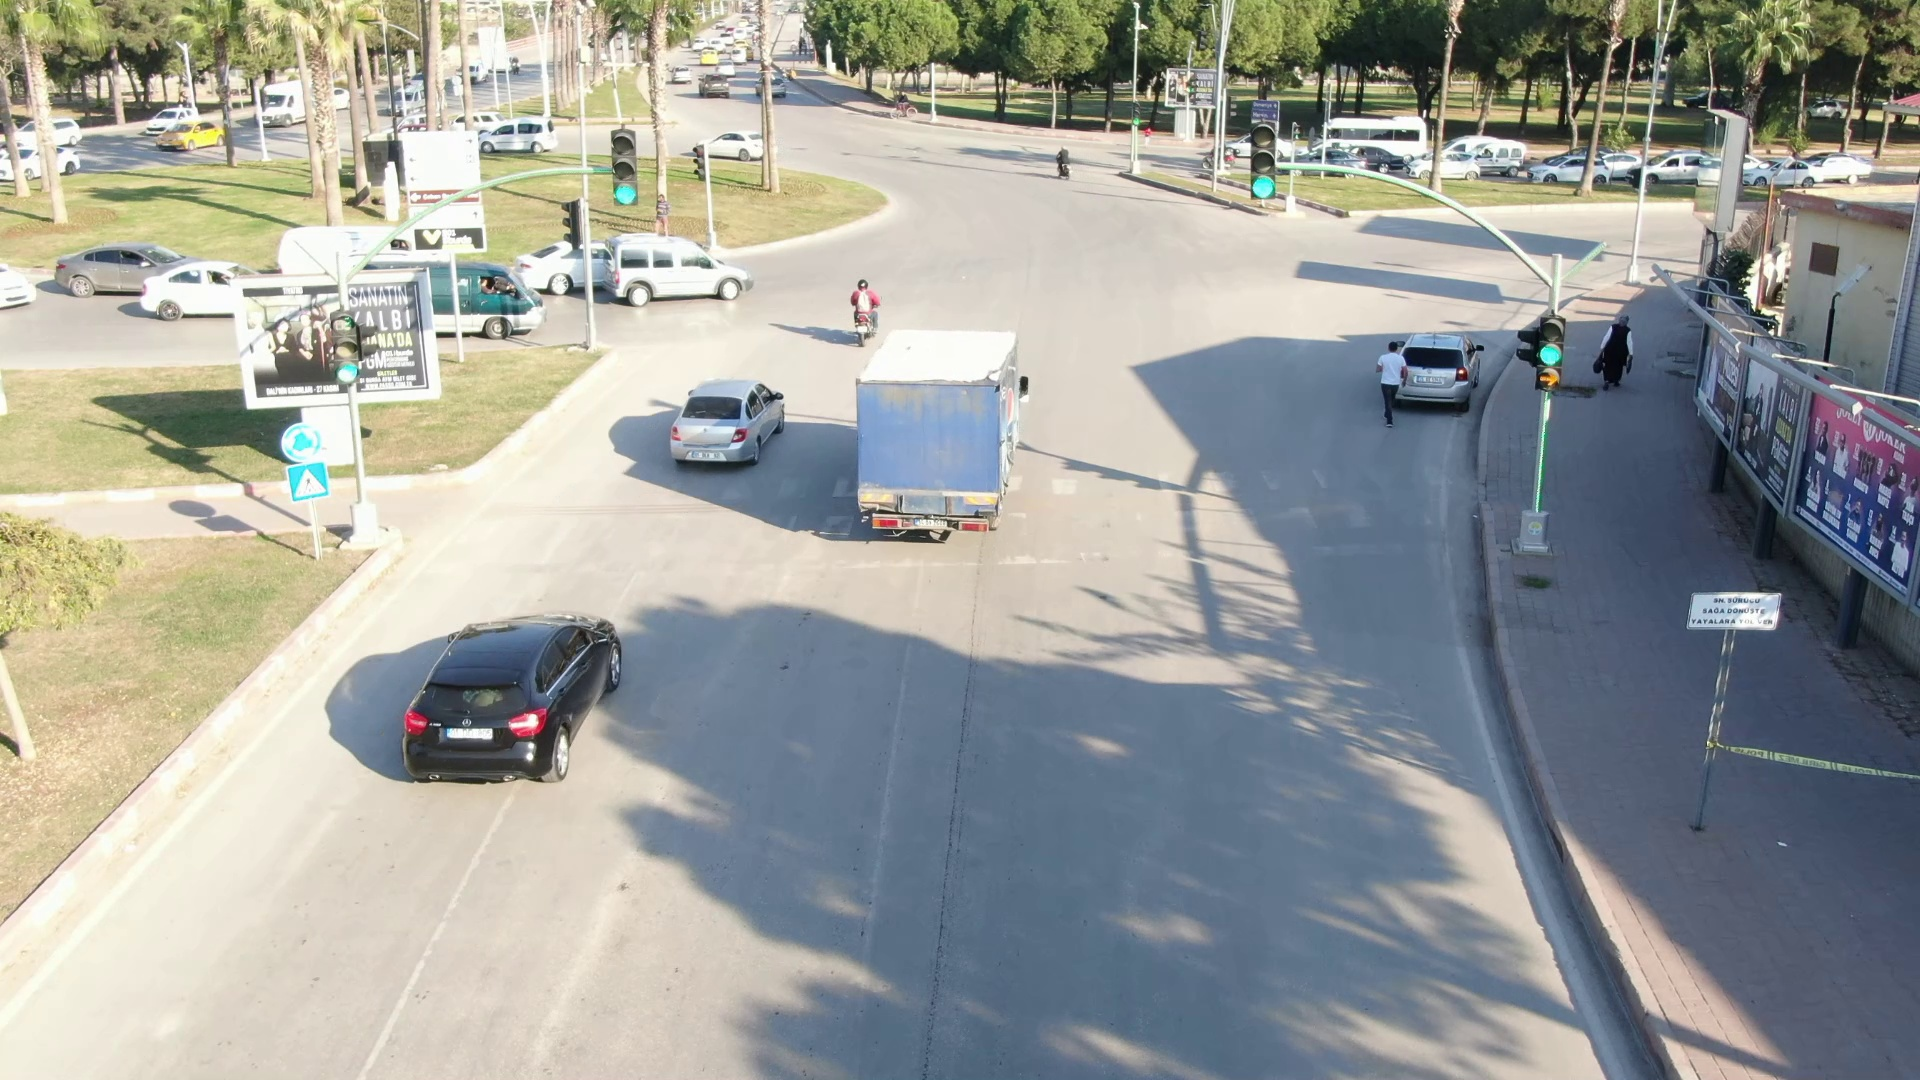car: (398, 590, 634, 786), (662, 366, 799, 473), (597, 234, 763, 309), (44, 235, 205, 306), (476, 113, 562, 157), (153, 113, 232, 155), (699, 130, 778, 165), (697, 70, 737, 98)
person: (1588, 308, 1641, 392), (1373, 334, 1412, 428), (844, 273, 880, 314)
